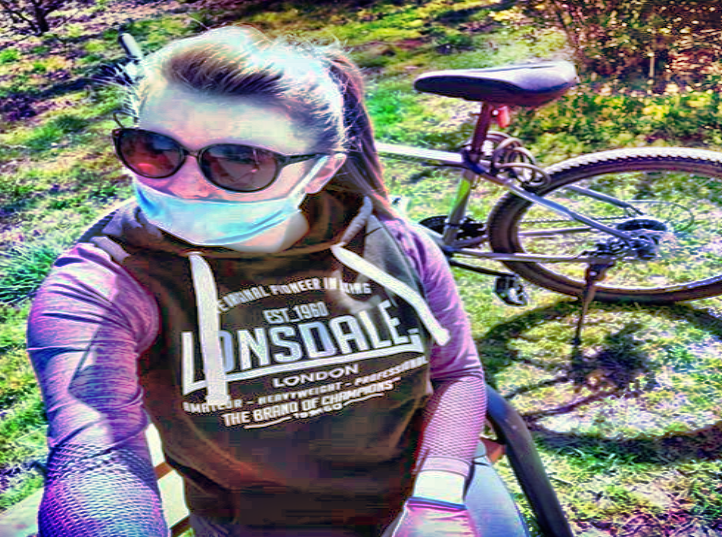mask_weared_incorrect: (105, 30, 359, 249)
